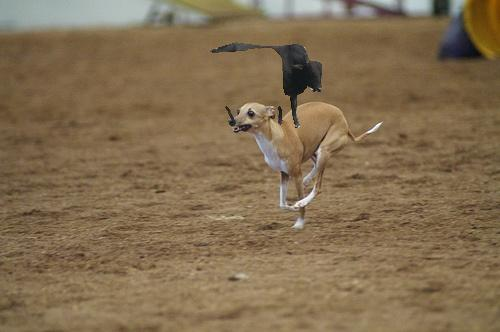tampered: (211, 43, 322, 128)
